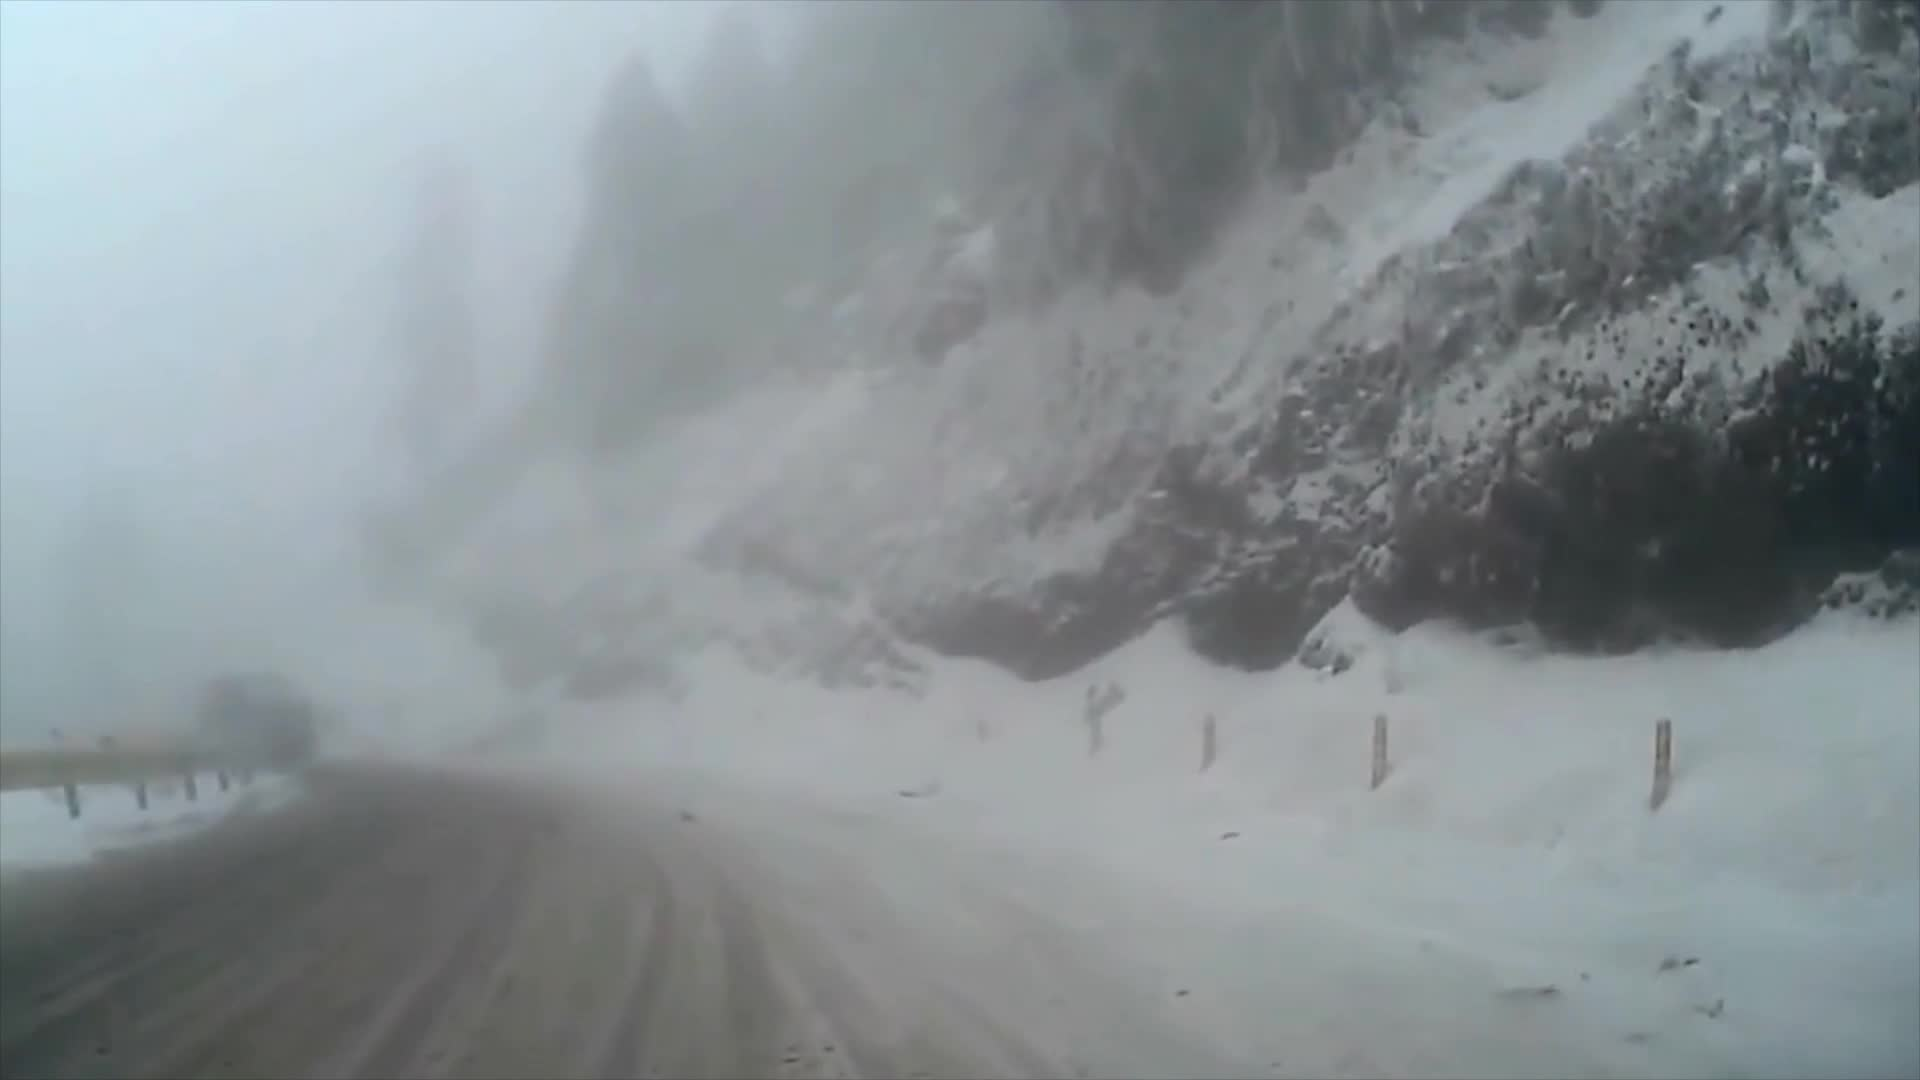vehicle: (202, 675, 315, 775)
